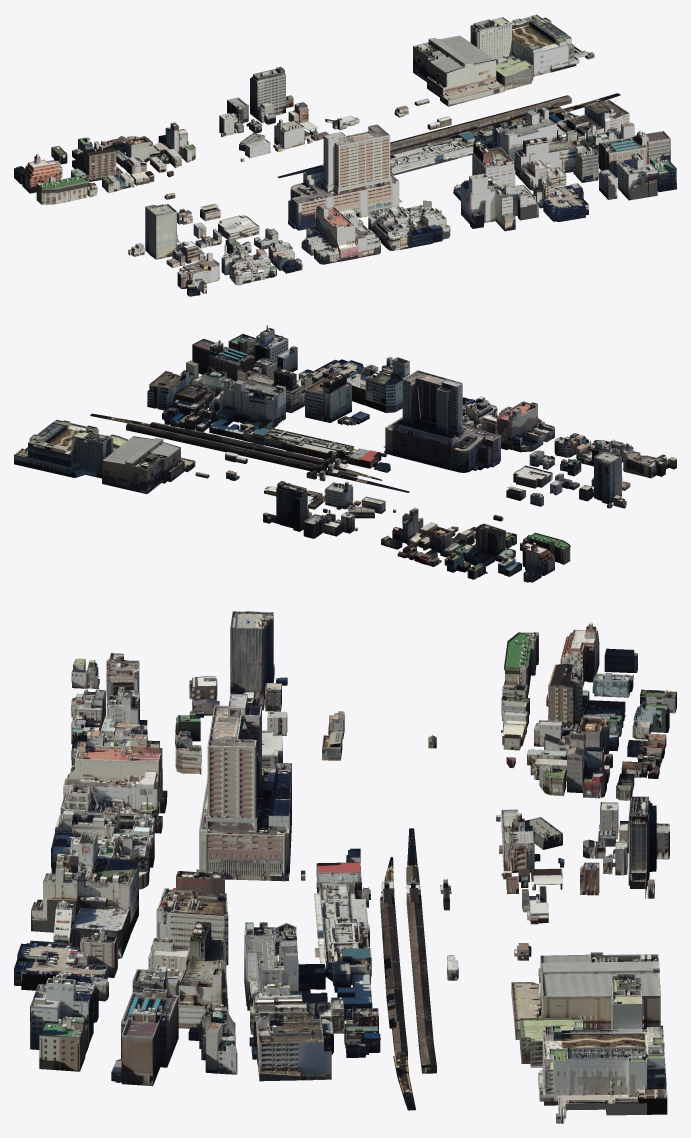
Rendered from station-7-1-packed.glb.
3 renders of one model, top to bottom at view 1: azimuth 30°, elevation 25°; view 2: azimuth 150°, elevation 25°; view 3: azimuth 270°, elevation 25°, orthographic. The views are drawn at different scales.
Size of the model in its own units: 617 by 83.65 by 372.
23 materials, 22 textured.
